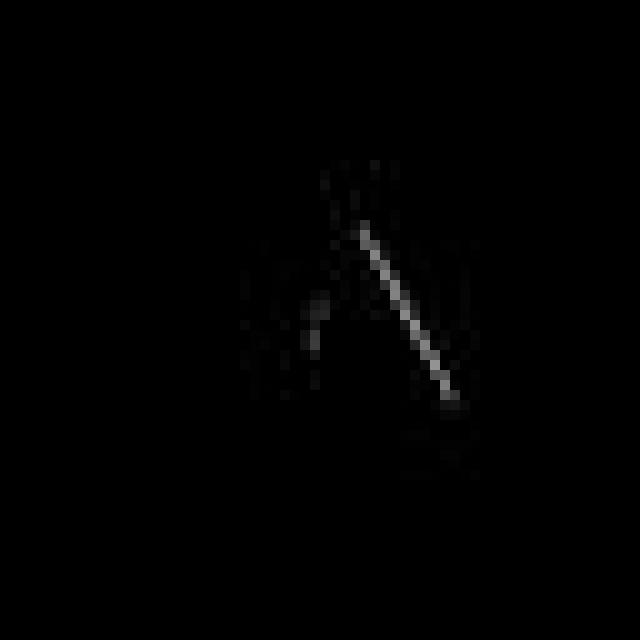8 -eight-: (294, 212, 461, 420)
